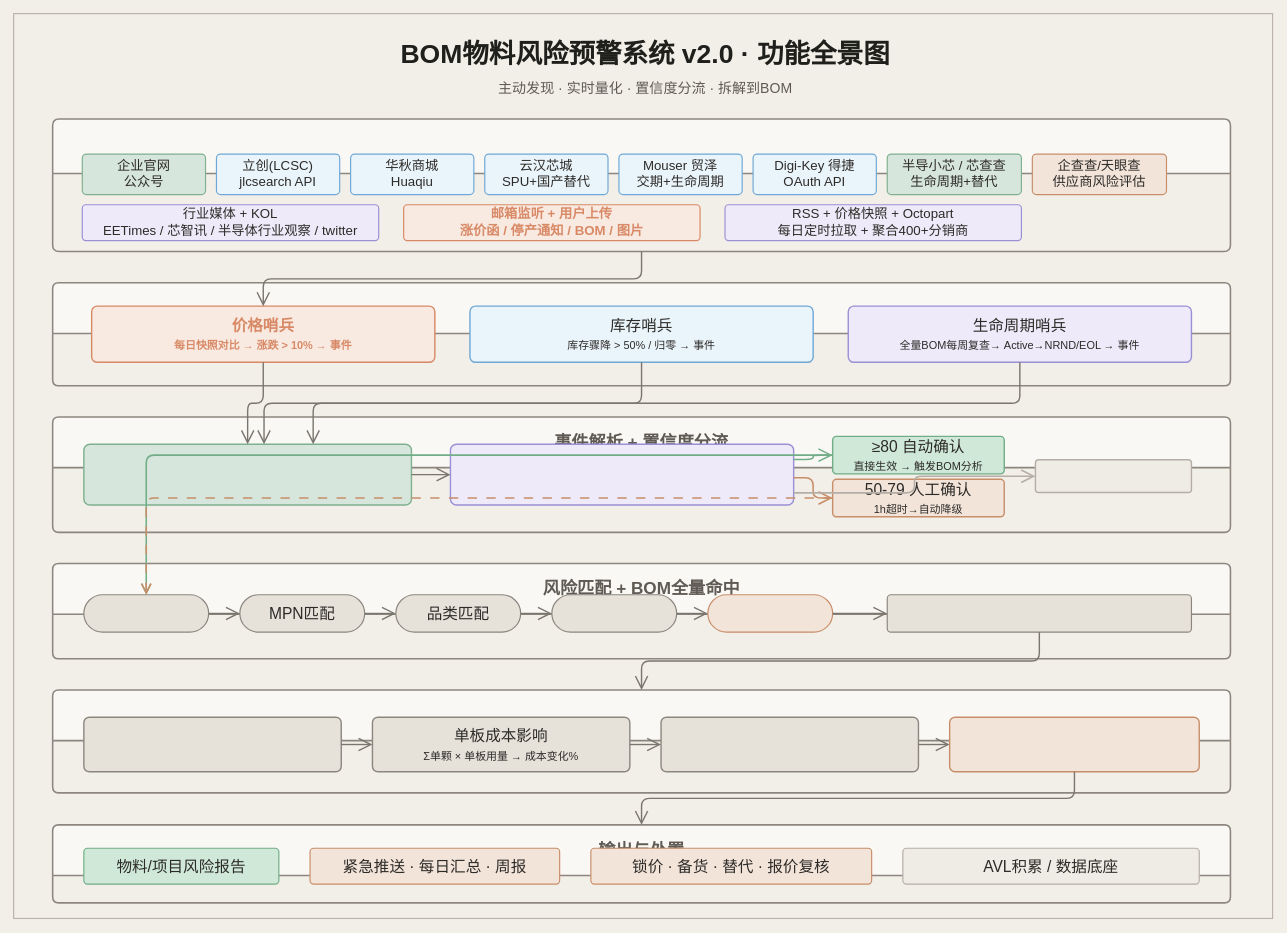
The diagram is 1287 pixels wide and 933 high, and some of its shapes have lost their labels. The box of each missing label's shape, as (x1, y1, x2, y2) in pixels:
<50 仅记录 不触发分析: (1034, 459, 1192, 493)
主动发现引擎 · 三大哨兵: (51, 282, 1231, 386)
单颗物料影响 成本增量 / 交期延迟 / 库存缺口: (83, 716, 342, 772)
历史BOM + 新BOM · 全量扫描: (886, 594, 1192, 632)
品牌匹配: (83, 594, 209, 632)
影响量化 · 拆解到BOM: (51, 689, 1231, 793)
批量成本影响 单板 × 计划产量 → 项目级金额: (660, 716, 919, 772)
描述匹配: (551, 594, 677, 632)
数据源层 · 九大类情报网: (51, 118, 1231, 252)
文本/OCR/正则抽取 厂商 · 品类 · 涨幅 · 生效日 · 原因: (83, 443, 412, 505)
波及分析: (707, 594, 833, 632)
紧急指针排序 按倒计时+成本影响+替代可得性排优先: (949, 716, 1200, 772)
置信度自动计算 来源权威30%+字段完整35%+抽取20%+交叉验证15%: (449, 443, 794, 505)
